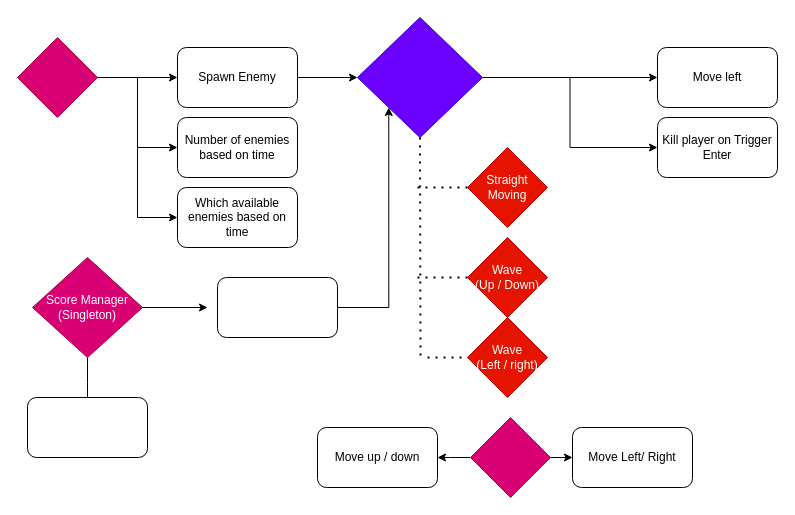
Image size: 795x515. Some labels were removed from this diagram. The centre of each missing label's shape, as x and y in pixels:
"Enemy Factory Class" goes at point (419, 77).
"Enemy Spawner" goes at point (57, 77).
"Persistently Stores the time the player has in the match, & highscore" goes at point (87, 427).
"Player Script" goes at point (510, 457).
"Store Wave Based Enemy Date" goes at point (277, 307).
